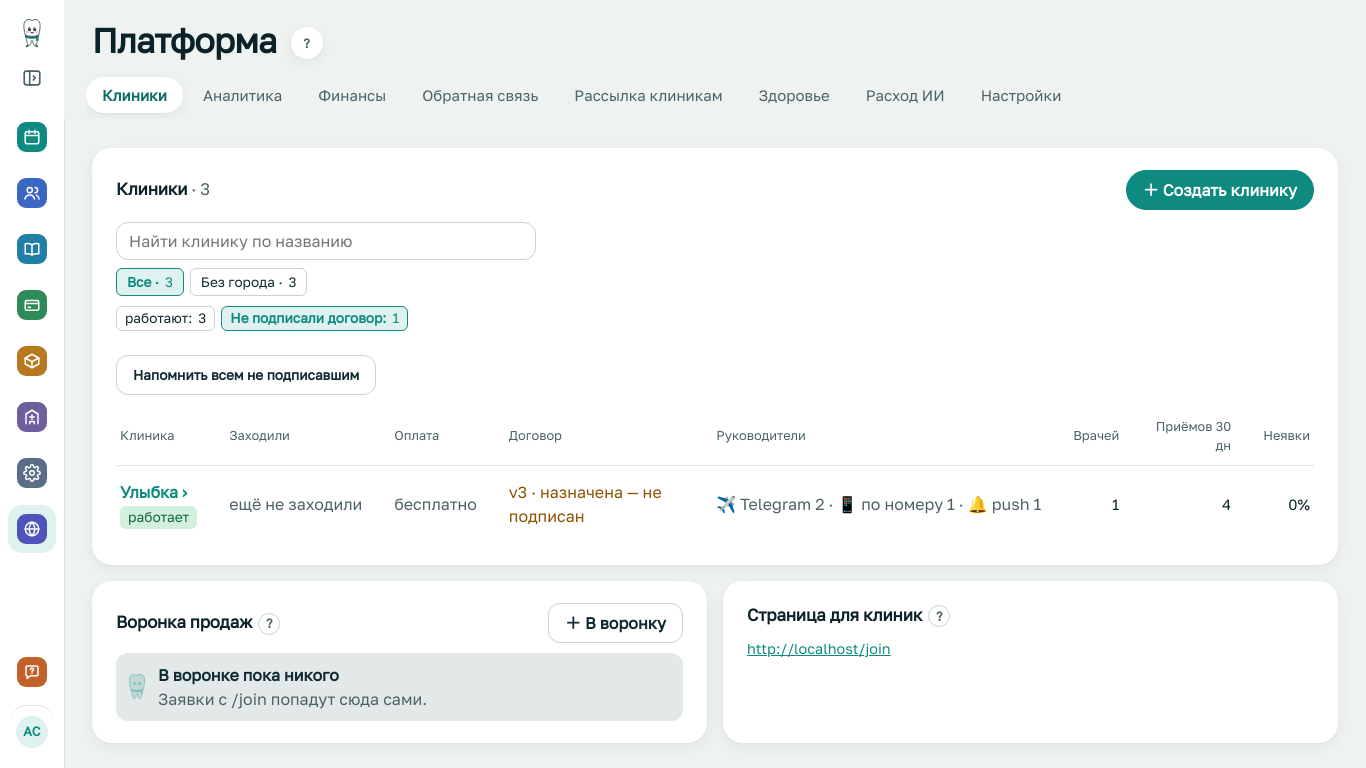
it: карточка клиники: назначить версию для подписи и напомнить; 409 «уже напоминали» — текстом
The image size is (1366, 768).
Click the button "Улыбка ›" at [154, 492], box [120,480,187,504]
(page scrolled)
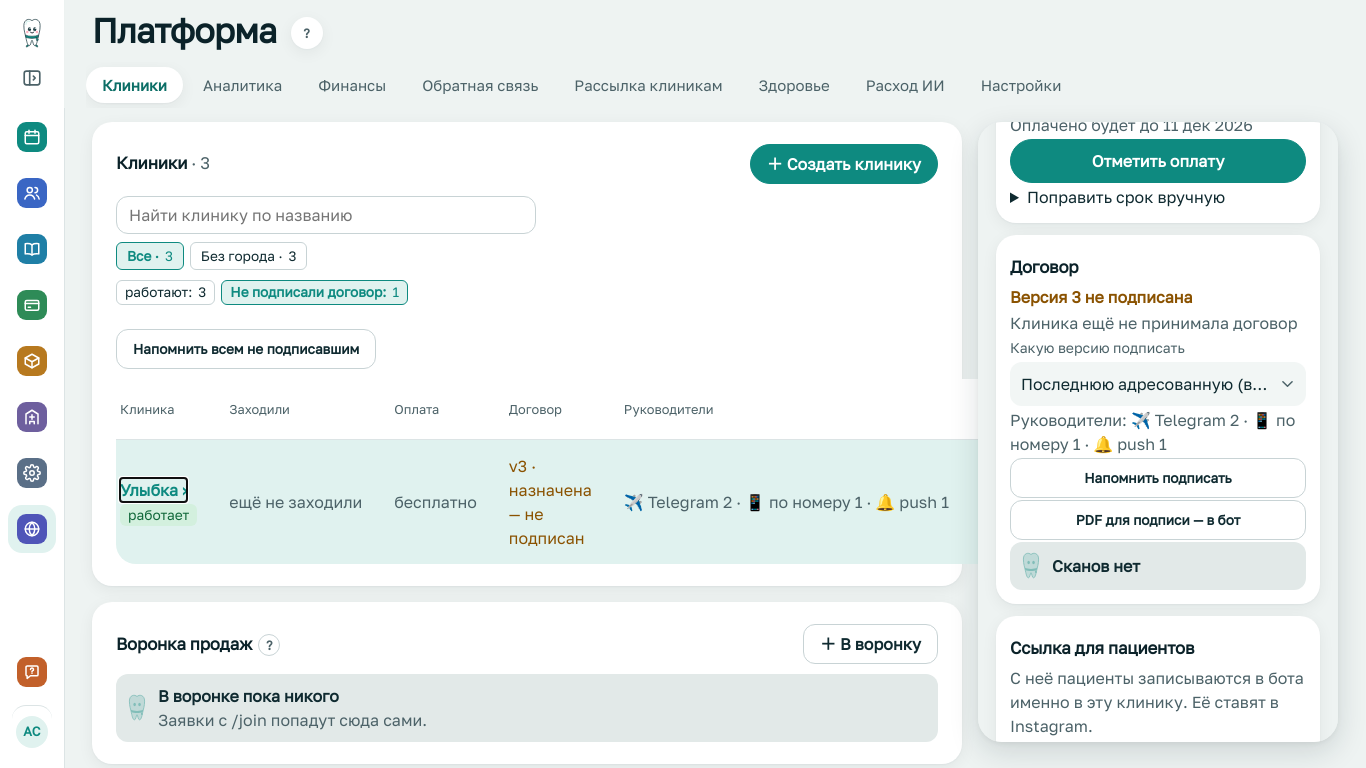
Expected: the text "Версия 3 не подписана" is shown, [1010,287,1192,307]
Expected: the text "Руководители: ✈️ Telegram 2 · 📱 по номеру 1 · 🔔 push 1" is shown, [1010,408,1306,456]
Click the dropdown named "Какую версию подписать" at [1158, 384], box [1010,362,1306,406]
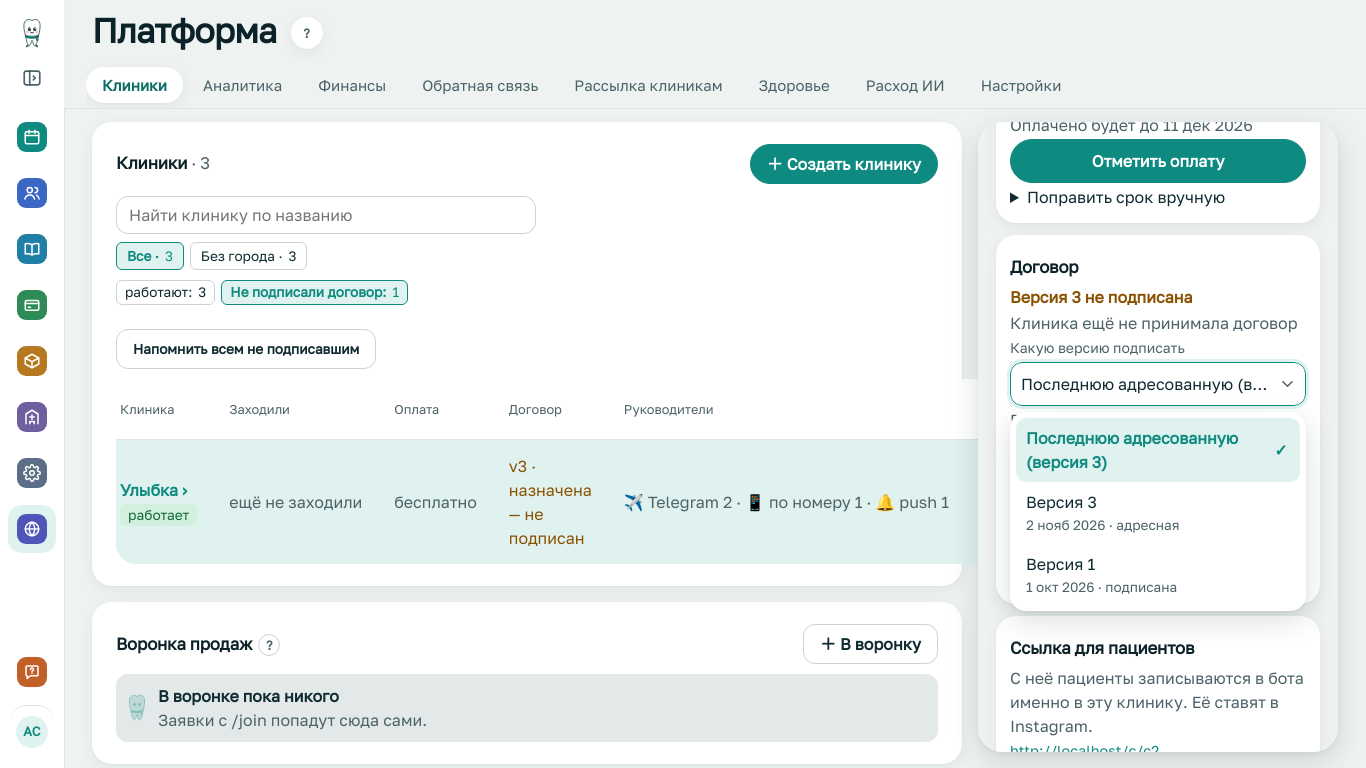
Click the option "Версия 1 1 окт 2026 · подписана" at [1061, 564], box [1026,554,1177,594]
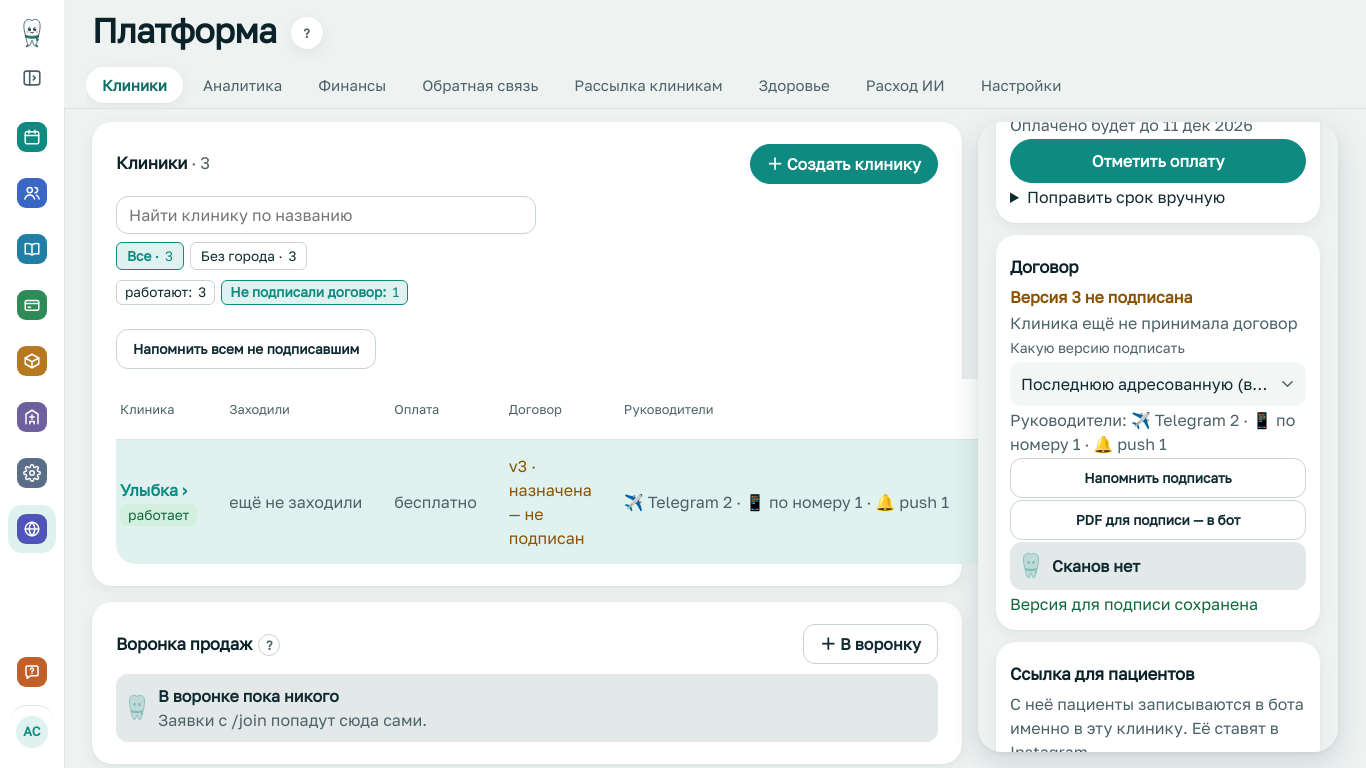
Click the button "Напомнить подписать" at [1158, 478], box [1010,458,1306,498]
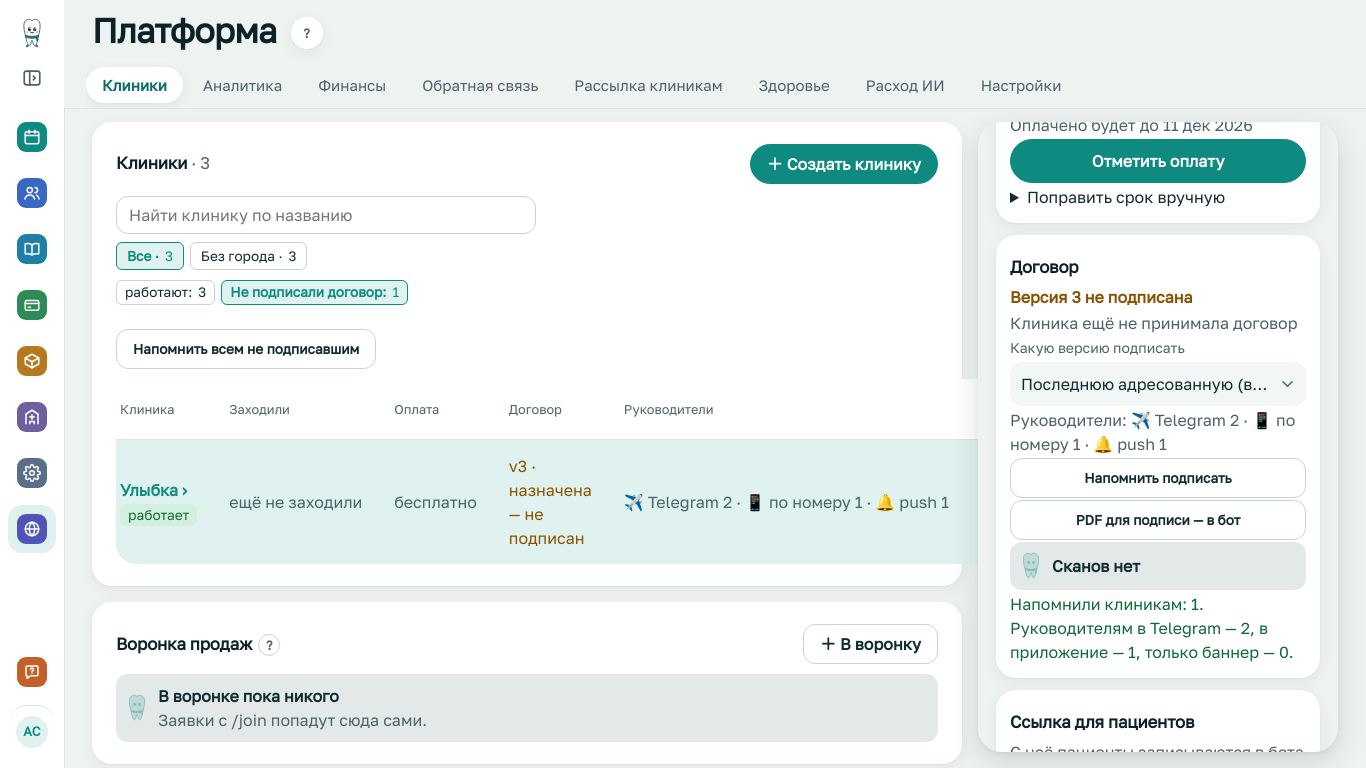
Expected: the text "Напомнили клиникам: 1. Руководителям в Telegram — 2" is shown, [1010,594,1294,662]
Click the button "Напомнить подписать" at [1158, 478], box [1010,458,1306,498]
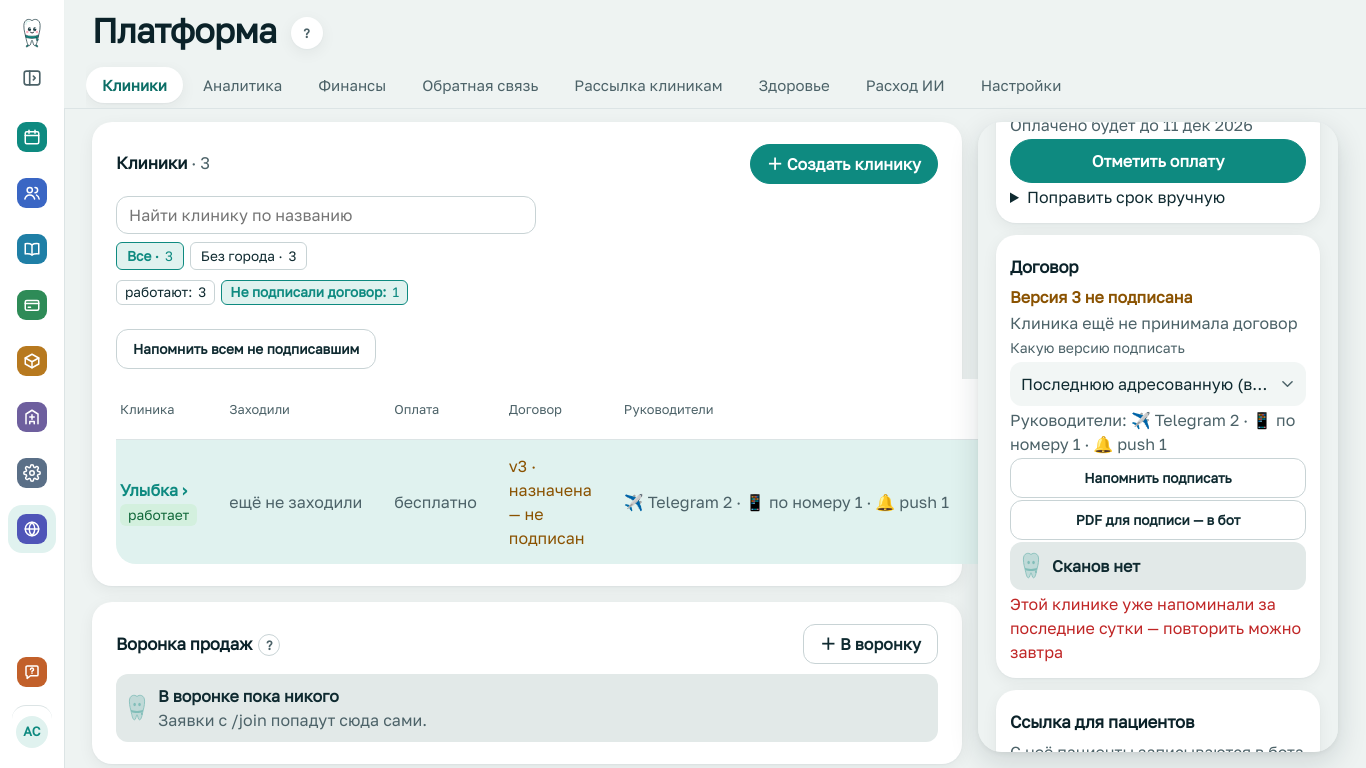
Expected: the message shows "уже напоминали за последние сутки", [1010,594,1301,662]
